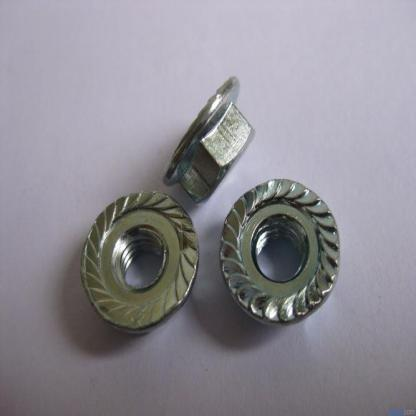FOD: (218, 176, 342, 328), (78, 188, 200, 336), (161, 70, 258, 207)
